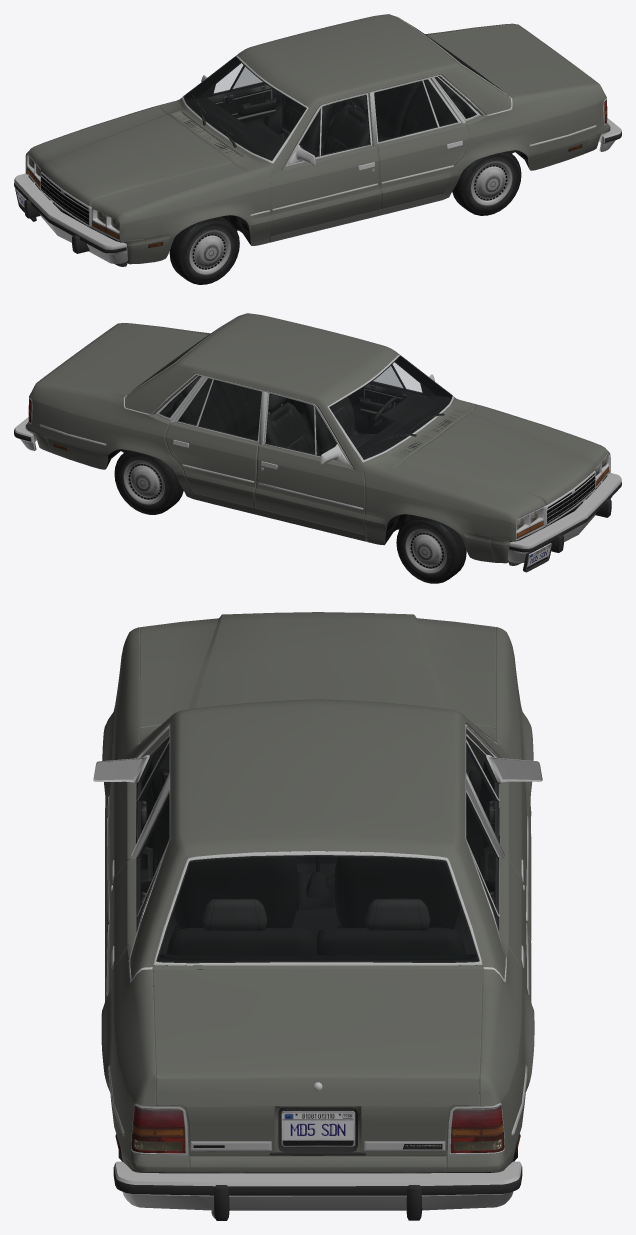
The model's file is classic.glb.
The picture shows the model from 3 angles, top to bottom: view 1: azimuth 30°, elevation 25°; view 2: azimuth 150°, elevation 25°; view 3: azimuth 270°, elevation 25°; orthographic projection. The views are drawn at different scales.
Parts seen in each view (by area): view 1: body_Bodycolor_0, Hood_Bodycolor_0, Door_FL_Bodycolor_0, Seats_GEN4DR_INTERIOR_0, trunk_door_Bodycolor_0, Wiendshield_UCB_GLASS_CLEAN_0, Door_RL_Bodycolor_0, Wheel_FL_RIMSTOCK_05_0, Wheel_RL_RIMSTOCK_05_0, Door_Glass_RL_UCB_GLASS_CLEAN_0, bumper_front_UCB_BOTTOM_0, Door_Glass_FL_UCB_GLASS_CLEAN_0 (+11 smaller); view 2: body_Bodycolor_0, Hood_Bodycolor_0, Seats_GEN4DR_INTERIOR_0, Door_FR_Bodycolor_0, trunk_door_Bodycolor_0, Wiendshield_UCB_GLASS_CLEAN_0, Door_RR_Bodycolor_0, Wheel_FR_RIMSTOCK_05_0, Wheel_RR_RIMSTOCK_05_0, Door_Glass_RR_UCB_GLASS_CLEAN_0, bumper_front_UCB_BOTTOM_0, Bodytrim_UCB_BOTTOM_0 (+11 smaller); view 3: body_Bodycolor_0, trunk_door_Bodycolor_0, Hood_Bodycolor_0, Windows_rear_UCB_GLASS_CLEAN_0, Seats_GEN4DR_INTERIOR_0, bumper_rear_UCB_BOTTOM_0, Bodytrim_UCB_BOTTOM_0, interior_GEN4DR_INTERIOR_0, Trunk_door_inner_UCB_BOTTOM_0, Door_FR_Bodycolor_0, Numberplate_rear_Numberplates_0, Door_FL_Bodycolor_0 (+18 smaller).
Part boxes in pixels (x1=…): body_Bodycolor_0: x1=25, y1=14, x2=610, y2=264; Hood_Bodycolor_0: x1=28, y1=106, x2=248, y2=218; Door_FL_Bodycolor_0: x1=270, y1=145, x2=381, y2=236; Seats_GEN4DR_INTERIOR_0: x1=278, y1=77, x2=463, y2=156; trunk_door_Bodycolor_0: x1=428, y1=24, x2=598, y2=96; Wiendshield_UCB_GLASS_CLEAN_0: x1=184, y1=57, x2=305, y2=159; Door_RL_Bodycolor_0: x1=377, y1=123, x2=470, y2=208; Wheel_FL_RIMSTOCK_05_0: x1=169, y1=216, x2=239, y2=284; Wheel_RL_RIMSTOCK_05_0: x1=452, y1=151, x2=521, y2=215; Door_Glass_RL_UCB_GLASS_CLEAN_0: x1=374, y1=80, x2=457, y2=141; bumper_front_UCB_BOTTOM_0: x1=14, y1=173, x2=127, y2=263; Door_Glass_FL_UCB_GLASS_CLEAN_0: x1=300, y1=95, x2=370, y2=155; body_Bodycolor_0: x1=25, y1=313, x2=610, y2=563; Hood_Bodycolor_0: x1=388, y1=405, x2=607, y2=517; Seats_GEN4DR_INTERIOR_0: x1=173, y1=376, x2=376, y2=455; Door_FR_Bodycolor_0: x1=254, y1=444, x2=365, y2=535; trunk_door_Bodycolor_0: x1=37, y1=324, x2=207, y2=395; Wiendshield_UCB_GLASS_CLEAN_0: x1=330, y1=356, x2=451, y2=458; Door_RR_Bodycolor_0: x1=165, y1=422, x2=258, y2=507; Wheel_FR_RIMSTOCK_05_0: x1=396, y1=515, x2=466, y2=583; Wheel_RR_RIMSTOCK_05_0: x1=114, y1=450, x2=183, y2=514; Door_Glass_RR_UCB_GLASS_CLEAN_0: x1=178, y1=379, x2=261, y2=439; bumper_front_UCB_BOTTOM_0: x1=508, y1=473, x2=621, y2=572; Bodytrim_UCB_BOTTOM_0: x1=39, y1=315, x2=454, y2=468; body_Bodycolor_0: x1=101, y1=627, x2=534, y2=1172; trunk_door_Bodycolor_0: x1=153, y1=969, x2=482, y2=1156; Hood_Bodycolor_0: x1=139, y1=612, x2=496, y2=728; Windows_rear_UCB_GLASS_CLEAN_0: x1=158, y1=856, x2=477, y2=961; Seats_GEN4DR_INTERIOR_0: x1=166, y1=851, x2=465, y2=969; bumper_rear_UCB_BOTTOM_0: x1=113, y1=1161, x2=522, y2=1220; Bodytrim_UCB_BOTTOM_0: x1=108, y1=723, x2=527, y2=1153; interior_GEN4DR_INTERIOR_0: x1=140, y1=761, x2=495, y2=965; Trunk_door_inner_UCB_BOTTOM_0: x1=190, y1=1082, x2=445, y2=1155; Door_FR_Bodycolor_0: x1=500, y1=758, x2=531, y2=941; Numberplate_rear_Numberplates_0: x1=281, y1=1111, x2=355, y2=1146; Door_FL_Bodycolor_0: x1=105, y1=758, x2=135, y2=941.
Bounding box in the file's own units: 4.98 × 1.35 × 1.83.
8 materials, 7 textured.
